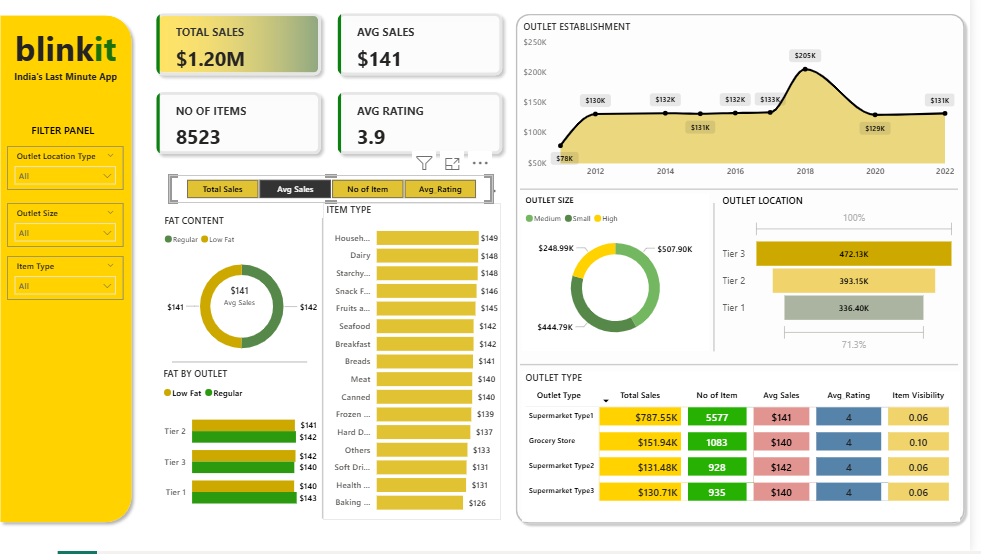

What the dashboard file says about the page in this screenshot:
{"tool":"powerbi","page":{"name":"Page 1","canvas":[1400,800],"ordinal":0},"visuals":[{"type":"shape","box":[1.2,22.5,206.2,745],"z":0},{"type":"textbox","box":[14.3,40,180,80],"z":1000},{"type":"textbox","box":[14.3,105.7,180,48.6],"z":2000},{"type":"cardVisual","fields":{"Data":["BlinkIT Grocery Data.Total Sales","BlinkIT Grocery Data.Avg Sales","BlinkIT Grocery Data.No of Item","BlinkIT Grocery Data.Avg_Rating"]},"box":[205,0,554.3,261.4],"z":3000},{"type":"shape","box":[742.5,22.5,657.5,745],"z":4000},{"type":"donutChart","title":"FAT CONTENT","fields":{"Y":["BlinkIT Grocery Data.No of Item"],"Category":["BlinkIT Grocery Data.Item Fat Content"]},"box":[240.9,316.5,231.5,220.5],"z":5000},{"type":"slicer","fields":{"Values":["Metrics.Metrics"]},"box":[252.9,261.4,464.3,40],"z":6000},{"type":"cardVisual","fields":{"Data":["BlinkIT Grocery Data.No of Item"]},"box":[295,400,116.2,68.8],"z":7000},{"type":"clusteredBarChart","title":" FAT BY OUTLET","fields":{"Y":["BlinkIT Grocery Data.No of Item"],"Category":["BlinkIT Grocery Data.Outlet Location Type"],"Series":["BlinkIT Grocery Data.Item Fat Content"]},"box":[238.8,536.2,230,220],"z":8000},{"type":"shape","box":[256.2,518.8,193.8,20],"z":9000},{"type":"shape","box":[458.8,322.5,27.5,431.2],"z":10000},{"type":"barChart","title":"ITEM TYPE","fields":{"Y":["BlinkIT Grocery Data.No of Item"],"Category":["BlinkIT Grocery Data.Item Type"]},"box":[472.5,301.2,256.2,455],"z":11000},{"type":"lineChart","title":"OUTLET ESTABLISHMENT","fields":{"Category":["BlinkIT Grocery Data.Outlet Establishment Year"],"Y":["BlinkIT Grocery Data.Total Sales"]},"box":[755.9,39.4,628.3,234.6],"z":12000},{"type":"donutChart","title":"OUTLET SIZE","fields":{"Y":["BlinkIT Grocery Data.Total Sales"],"Category":["BlinkIT Grocery Data.Outlet Size"]},"box":[759.1,288.2,267.7,225.2],"z":13000},{"type":"shape","box":[755.9,263,628.3,37.8],"z":14000},{"type":"shape","box":[1026.8,300.8,14.2,212.6],"z":15000},{"type":"funnel","title":"OUTLET LOCATION","fields":{"Y":["Sum(BlinkIT Grocery Data.Sales)"],"Category":["BlinkIT Grocery Data.Outlet Location Type"]},"box":[1040.9,288.2,343.3,231.5],"z":16000},{"type":"shape","box":[755.9,522.8,628.3,18.9],"z":17000},{"type":"pivotTable","title":"OUTLET TYPE","fields":{"Rows":["BlinkIT Grocery Data.Outlet Type"],"Values":["BlinkIT Grocery Data.Total Sales","BlinkIT Grocery Data.No of Item","BlinkIT Grocery Data.Avg Sales","BlinkIT Grocery Data.Avg_Rating","Avg(BlinkIT Grocery Data.Item Visibility)"]},"box":[759.1,541.7,628.3,215.7],"z":18000},{"type":"slicer","fields":{"Values":["BlinkIT Grocery Data.Outlet Location Type"]},"box":[20.5,218.9,166.9,63],"z":19000},{"type":"slicer","fields":{"Values":["BlinkIT Grocery Data.Outlet Size"]},"box":[20.5,300.8,166.9,63],"z":20000},{"type":"slicer","fields":{"Values":["BlinkIT Grocery Data.Item Type"]},"box":[20.5,376.4,166.9,63],"z":21000},{"type":"textbox","box":[50.4,181.1,107.1,37.8],"z":22000}]}

Visuals, with their boxes in screenshot pixels (x1, y1, x2, y2), scaled from the page's 1400x800 canvas onto the 981x554 screenshot:
shape: 1:16:145:531
textbox: 10:28:136:83
textbox: 10:73:136:107
cardVisual - BlinkIT Grocery Data.Total Sales x BlinkIT Grocery Data.Avg Sales: 144:0:532:181
shape: 520:16:980:531
"FAT CONTENT" donutChart: 169:219:331:372
slicer - Metrics.Metrics: 177:181:503:209
cardVisual - BlinkIT Grocery Data.No of Item: 207:277:288:325
" FAT BY OUTLET" clusteredBarChart: 167:371:328:524
shape: 180:359:315:373
shape: 321:223:341:522
"ITEM TYPE" barChart: 331:209:511:524
"OUTLET ESTABLISHMENT" lineChart: 530:27:970:190
"OUTLET SIZE" donutChart: 532:200:719:356
shape: 530:182:970:208
shape: 719:208:729:356
"OUTLET LOCATION" funnel: 729:200:970:360
shape: 530:362:970:375
"OUTLET TYPE" pivotTable: 532:375:972:524
slicer - BlinkIT Grocery Data.Outlet Location Type: 14:152:131:195
slicer - BlinkIT Grocery Data.Outlet Size: 14:208:131:252
slicer - BlinkIT Grocery Data.Item Type: 14:261:131:304
textbox: 35:125:110:152
